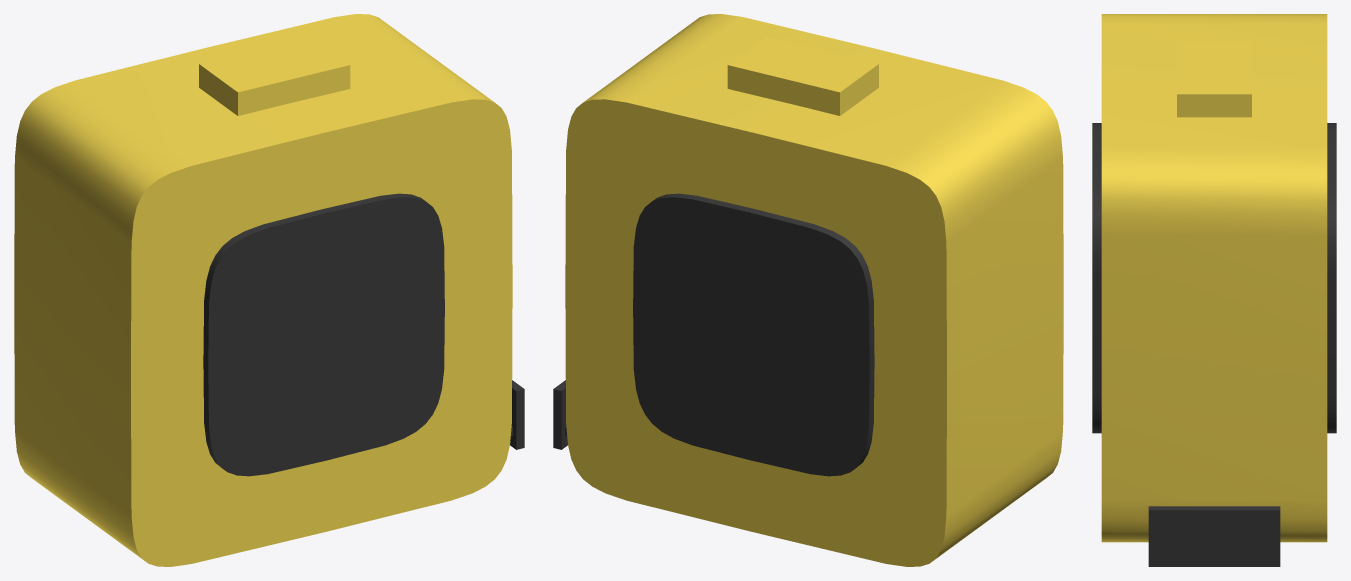
3 renders of one model, left to right at view 1: azimuth 30°, elevation 25°; view 2: azimuth 150°, elevation 25°; view 3: azimuth 270°, elevation 25°, orthographic. The views are drawn at different scales.
Visible parts, largest first — view 1: Tape measure; view 2: Tape measure; view 3: Tape measure.
Part boxes in pixels (x1=…): Tape measure: x1=14, y1=14, x2=524, y2=566; Tape measure: x1=553, y1=14, x2=1063, y2=566; Tape measure: x1=1092, y1=14, x2=1336, y2=566.
Bounding box in the file's own units: 0.0745 × 0.072 × 0.039.
